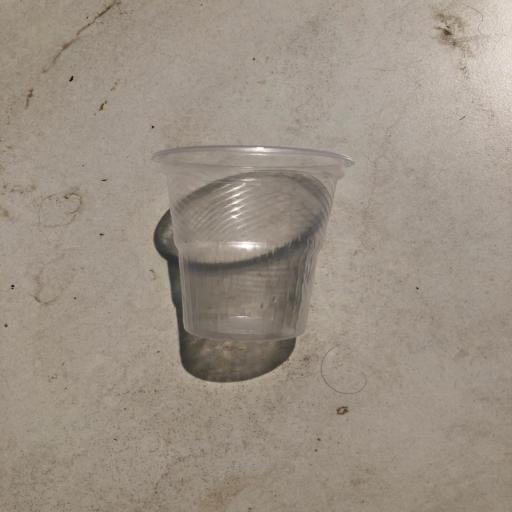waste: (140, 133, 369, 356)
